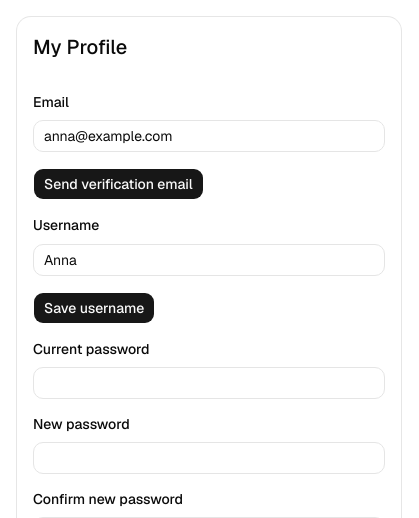
Scenario: keeps email synchronization retryable if User Service rejects the save
Expected: the field labelled "Username" holds "Anna", [33,244,385,276]
Replace the text in the field labelled "Email" with "new@example.com" at (209, 136), box [33,120,385,152]
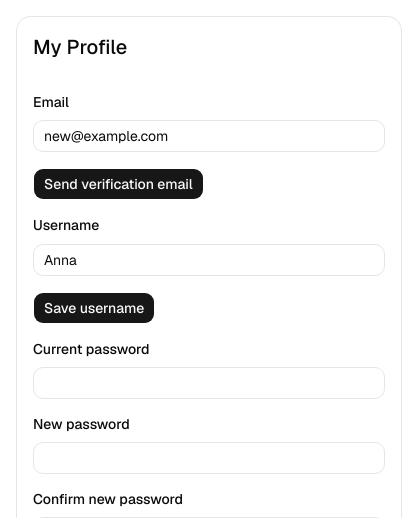
Click the button "Send verification email" at (118, 184), box [33,168,204,200]
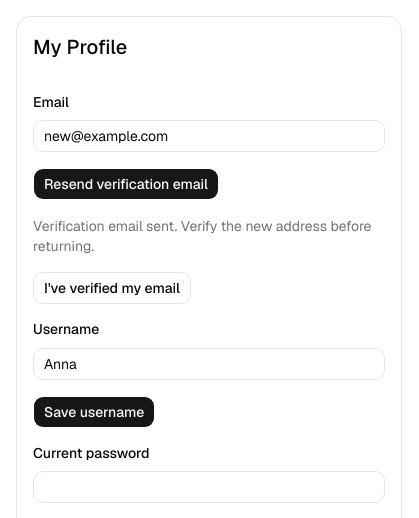
Expected: the button "I've verified my email" is shown
Click the button "I've verified my email" at (112, 288), box [33,272,191,304]
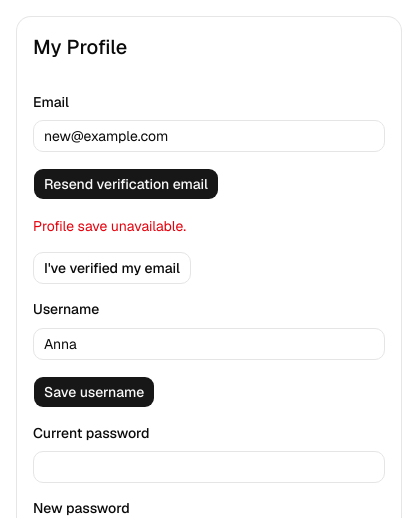
Expected: the text "Your email has been updated and saved successfully." is not shown
Expected: the text "Profile save unavailable." is shown, [33,217,186,235]
Click the button "I've verified my email" at (112, 268), box [33,252,191,284]
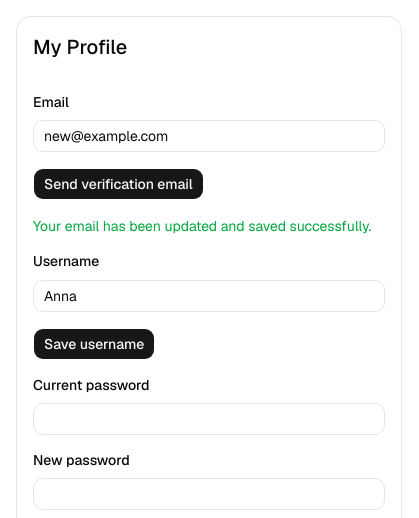
Expected: the text "Your email has been updated and saved successfully." is shown, [33,216,385,236]
